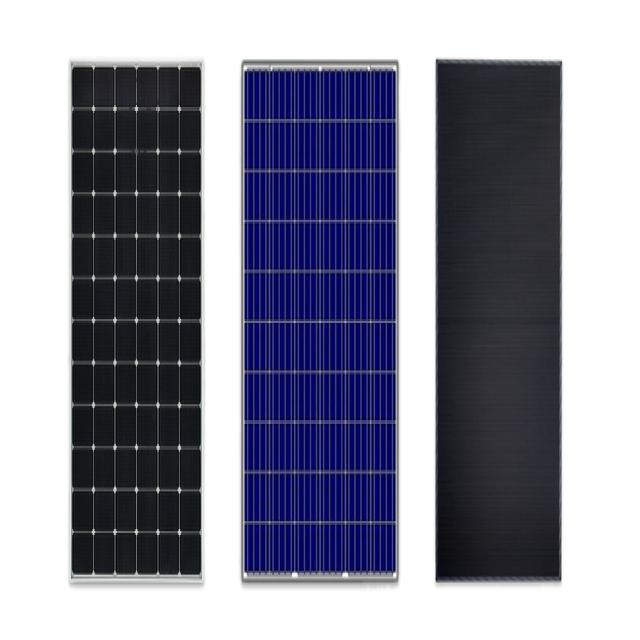clean-solar-panel: (244, 71, 396, 579), (68, 67, 202, 579)
